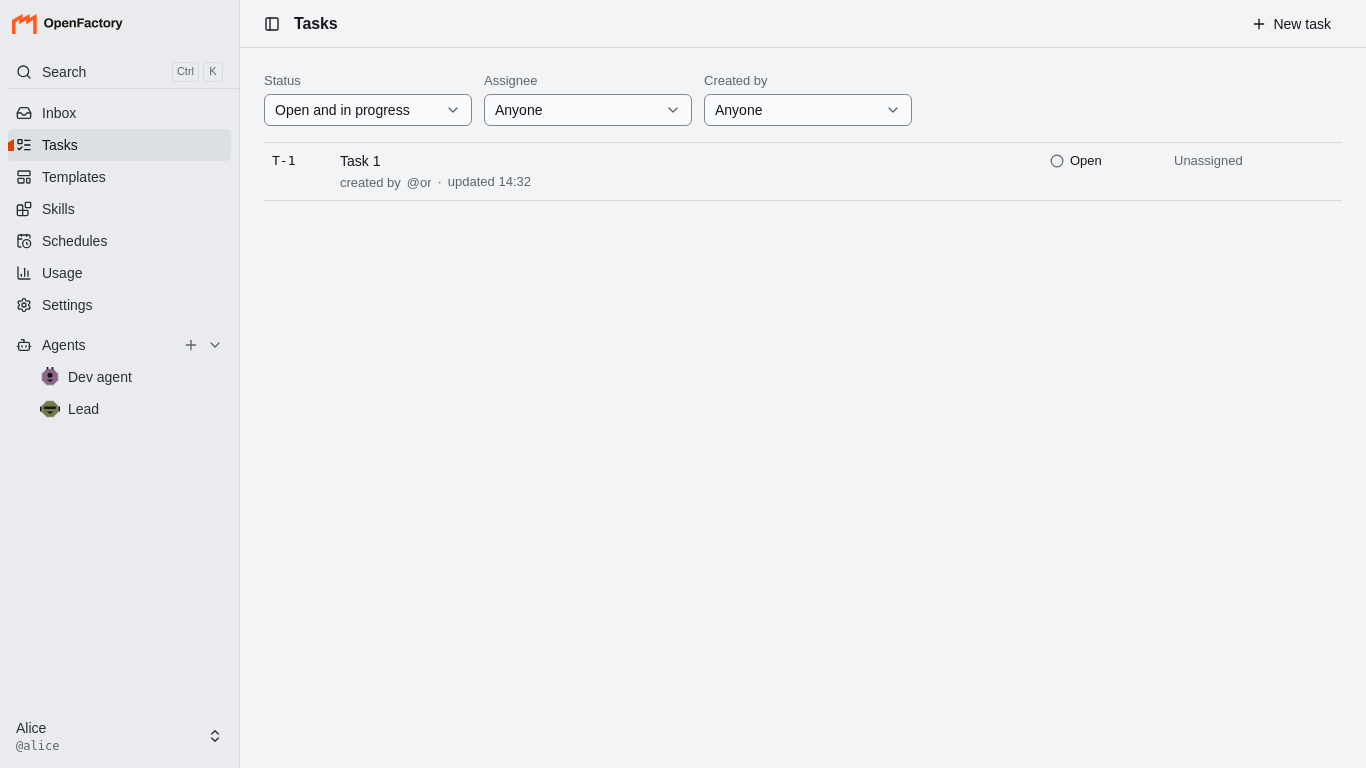
the assignee filter lists Anyone and Unassigned first, then live agents, then an Ended group
Check: the link with aria-label "T-1," is shown, box [272,153,380,169]
Click the dropdown named "Assignee": (588, 110) [484,94,692,126]
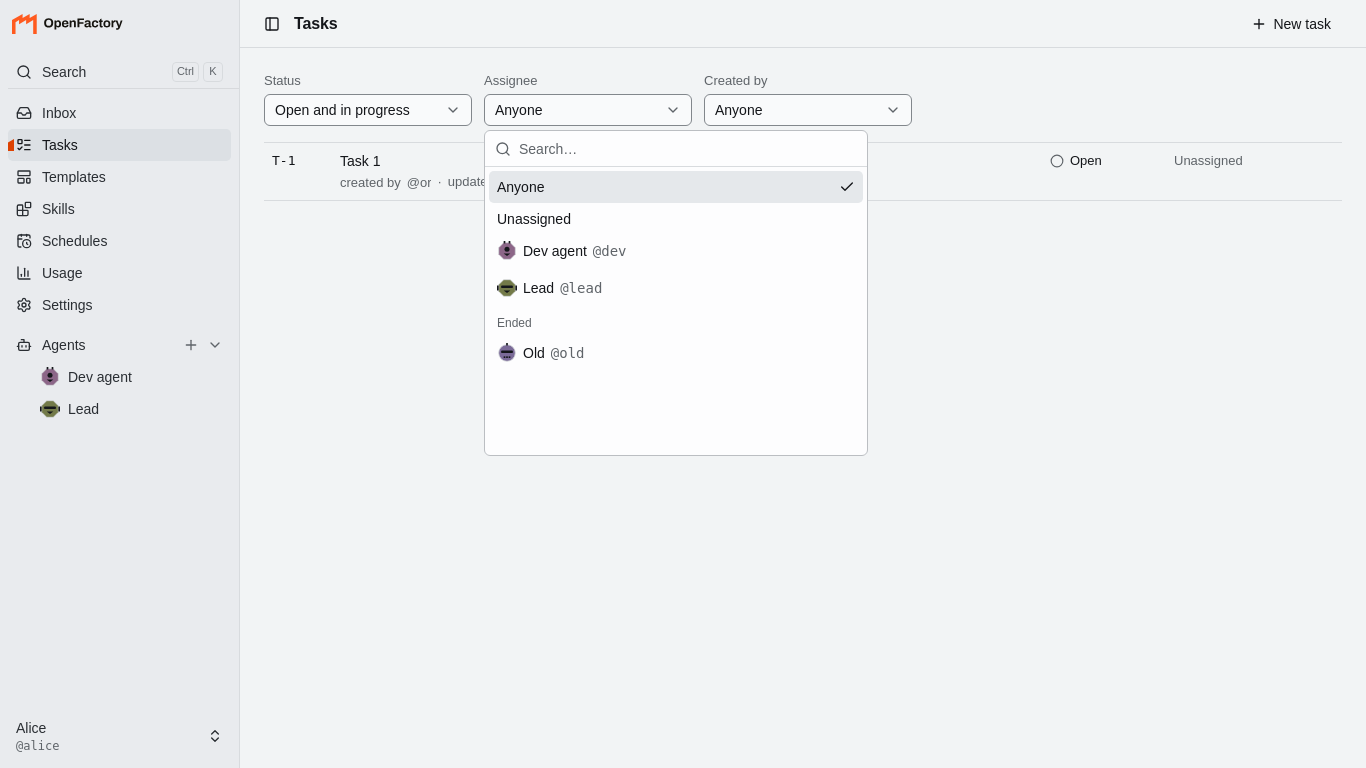
Check: the list named "Assignee" is shown, box [485,167,867,455]
Press Escape
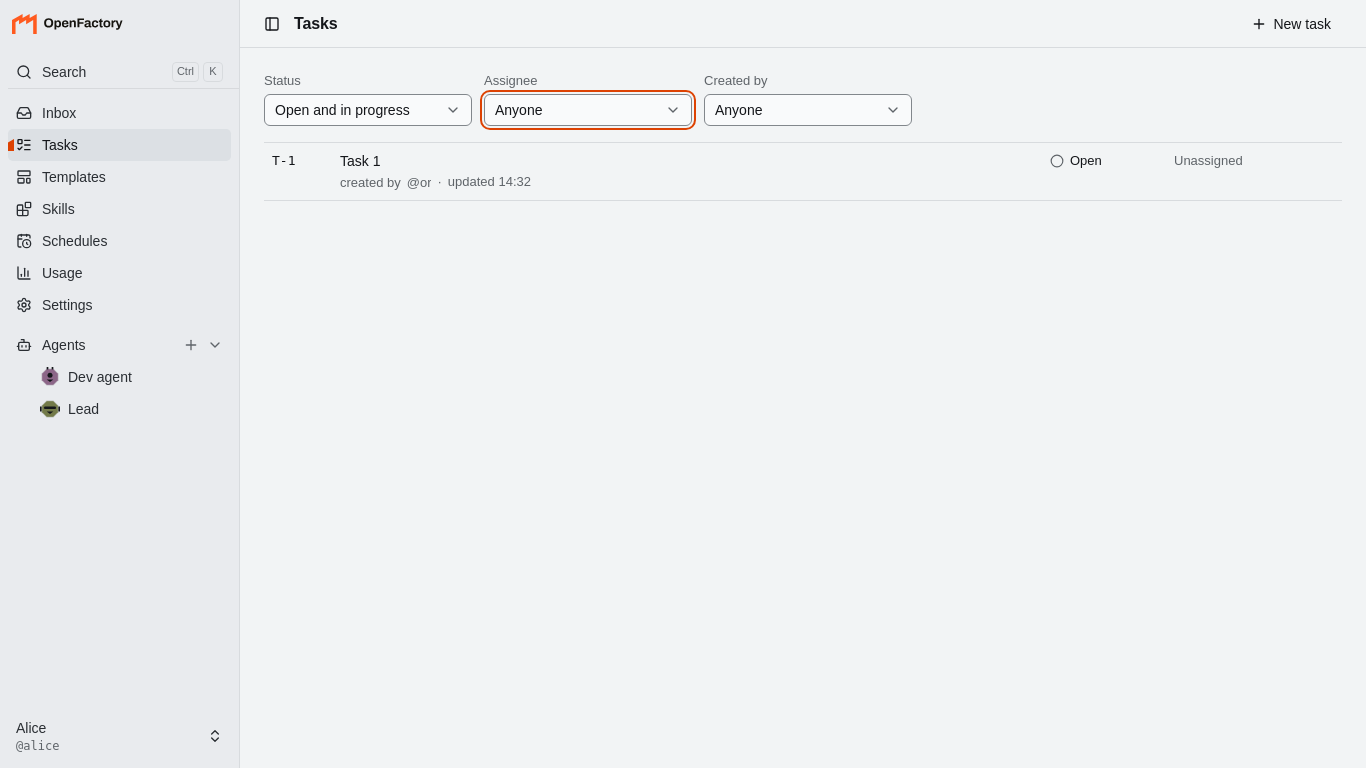
Click the dropdown named "Assignee": (588, 110) [484,94,692,126]
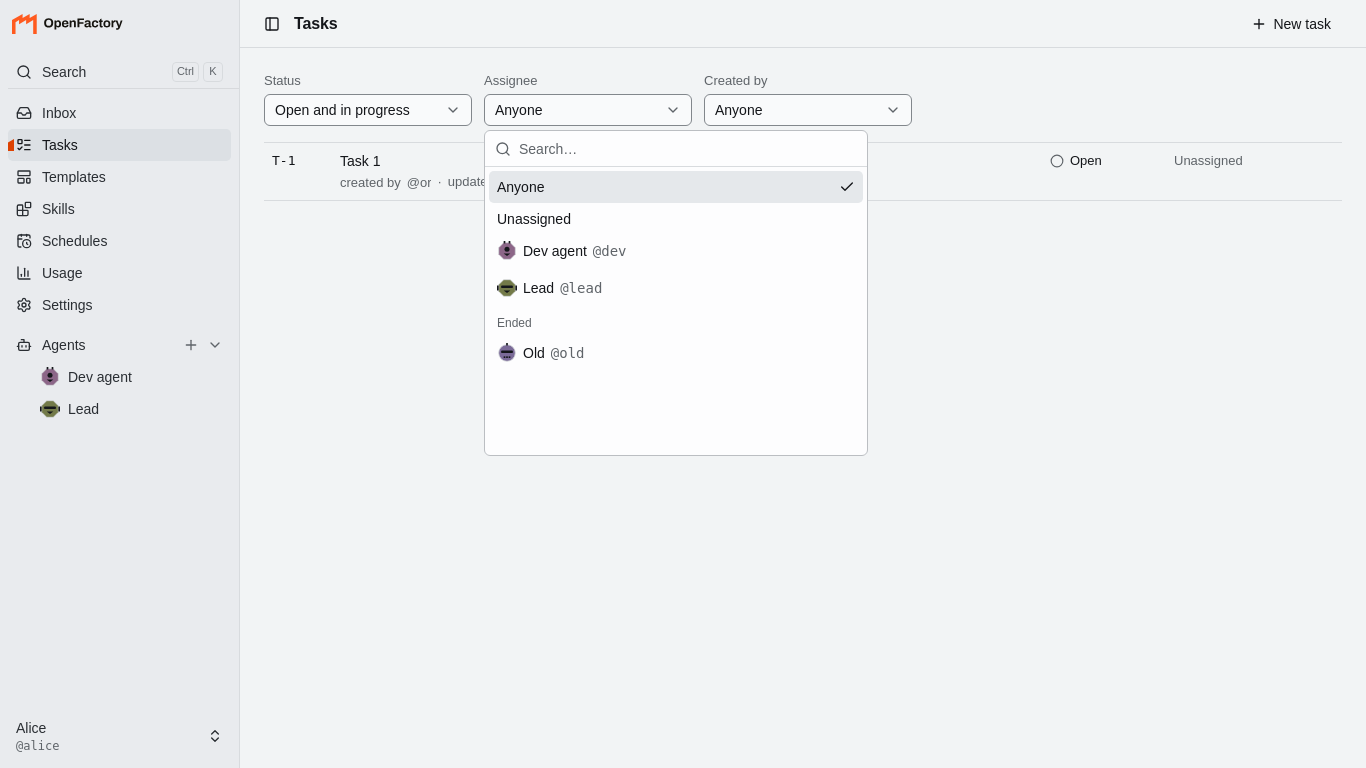
Check: the text "Ended" is shown, box [497,316,532,330]
